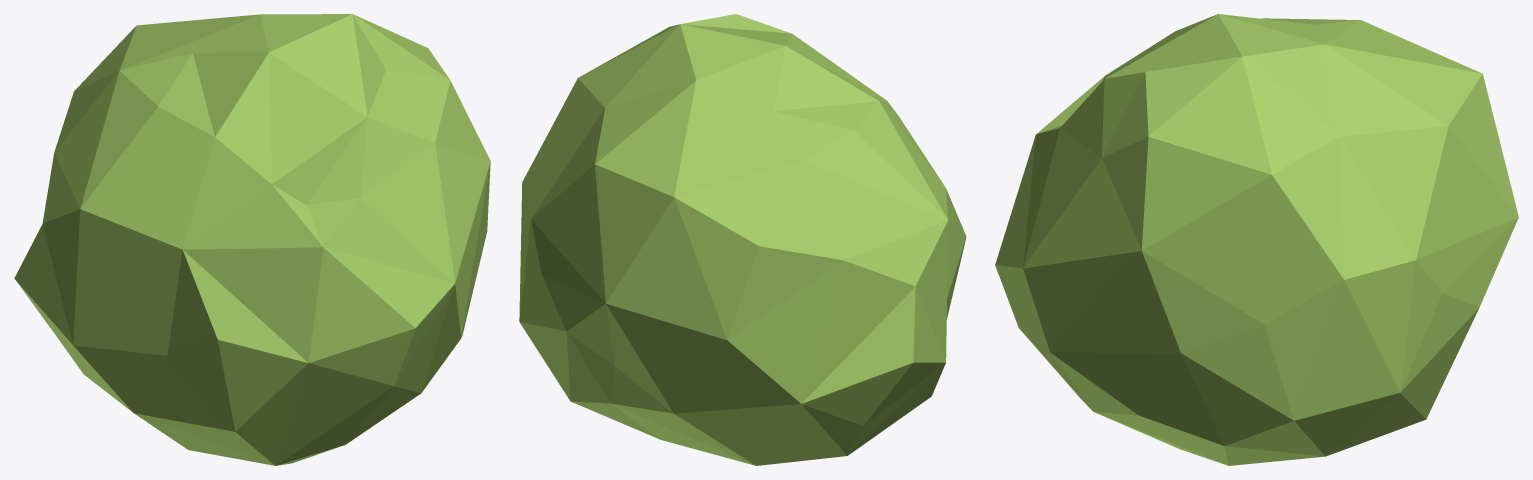
The model's file is Bush_b_m_02.fbx.
The picture shows the model from 3 angles, left to right: view 1: azimuth 30°, elevation 25°; view 2: azimuth 150°, elevation 25°; view 3: azimuth 270°, elevation 25°; orthographic projection. The views are drawn at different scales.
Visible parts, largest first — view 1: Bush_b_m_02; view 2: Bush_b_m_02; view 3: Bush_b_m_02.
Part boxes in pixels (x1,y1,x2,y2): Bush_b_m_02: (14,14,490,465); Bush_b_m_02: (519,14,966,465); Bush_b_m_02: (995,14,1518,465).
Bounding box in the file's own units: 171 × 162 × 175.
